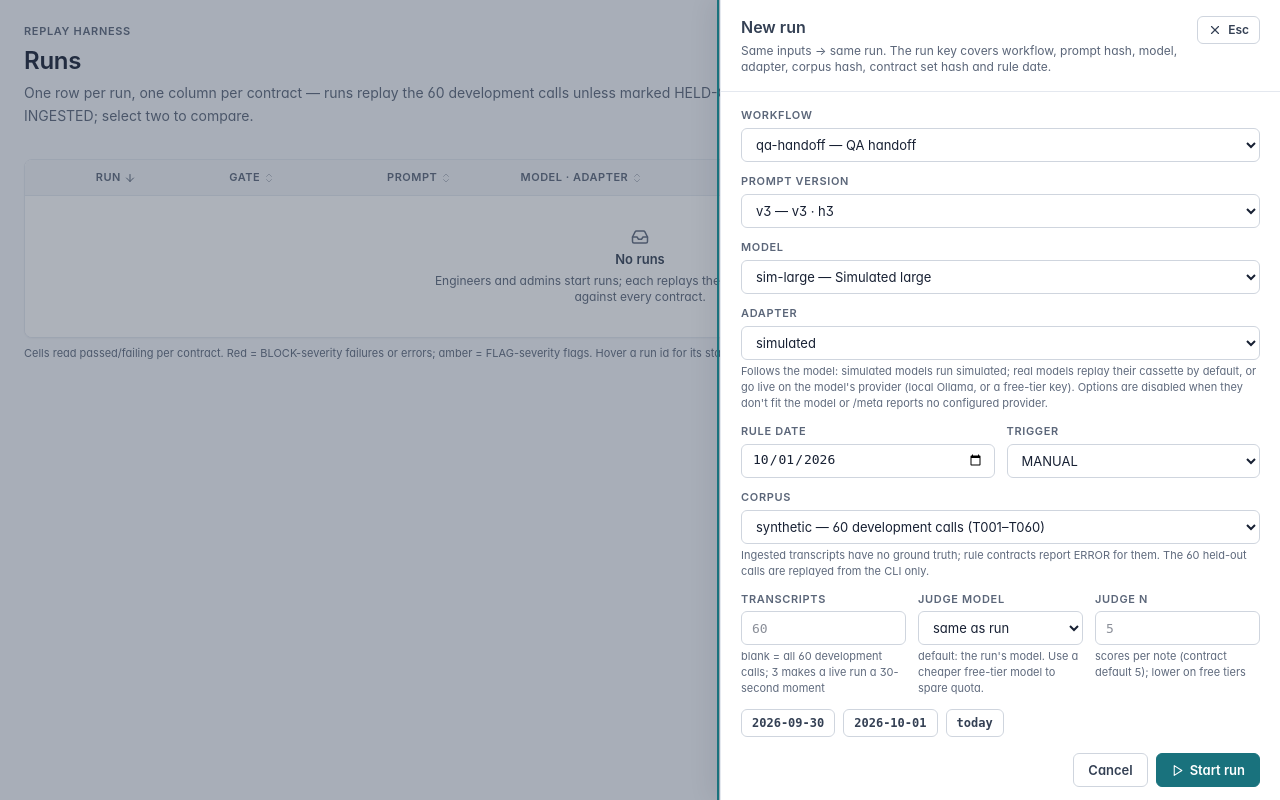
Test: Runs page › fills the New run form from the data: newest prompt, a simulated model, the next rule change
This screenshot has width=1280, height=800.
Expected: the date field labelled "Rule date" holds "2026-10-01", [741, 444, 994, 478]
Expected: the dropdown labelled "Prompt version" shows "v3 — v3 · h3", [741, 194, 1260, 228]
Click the button "today": point(975, 723) [946, 709, 1004, 737]
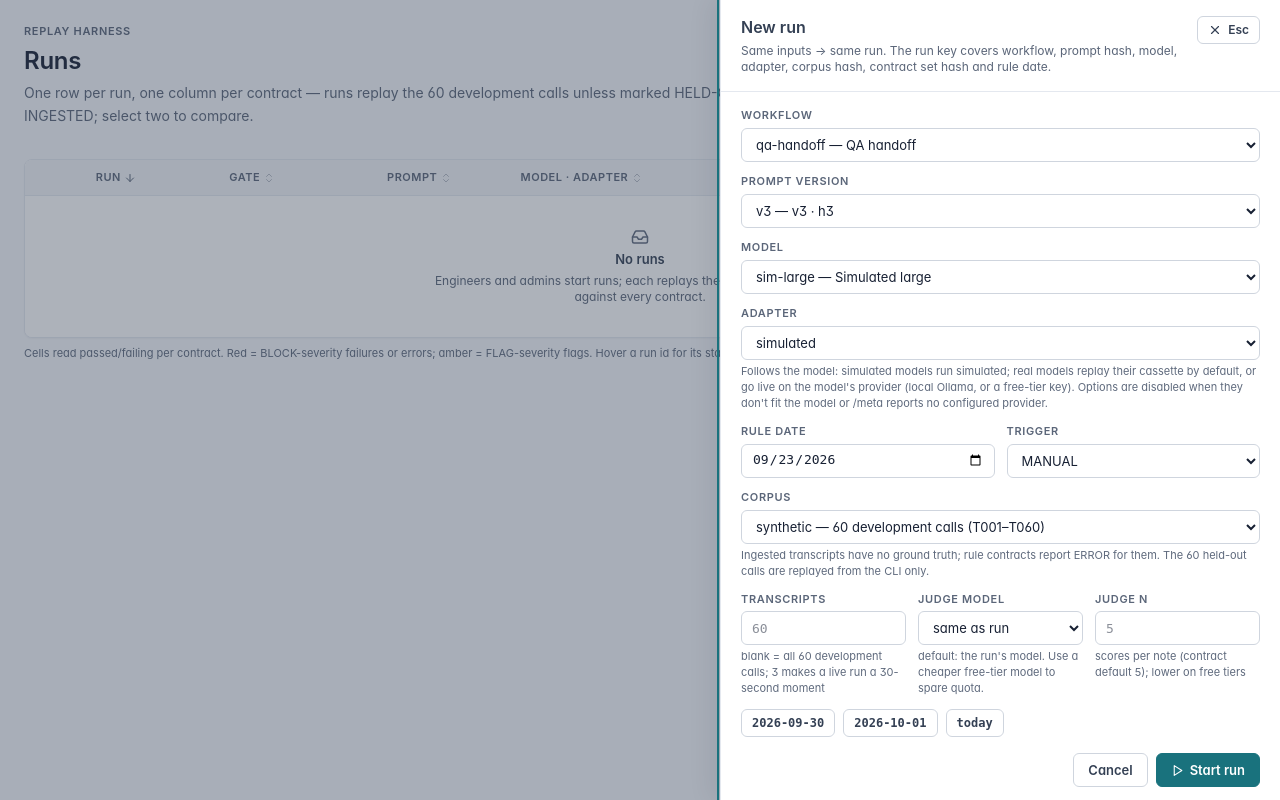
Expected: the date field labelled "Rule date" holds "2026-09-23", [741, 444, 994, 478]
